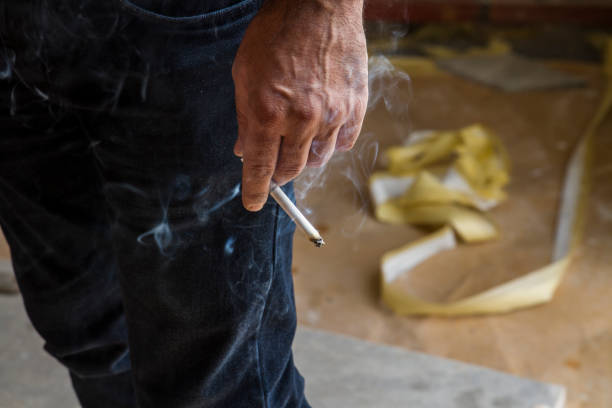cigarette: (269, 182, 325, 249)
